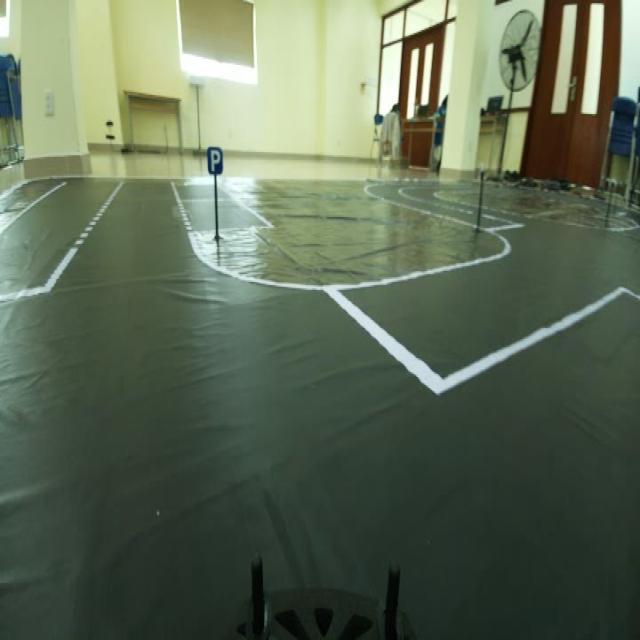parking: (200, 142, 224, 184)
